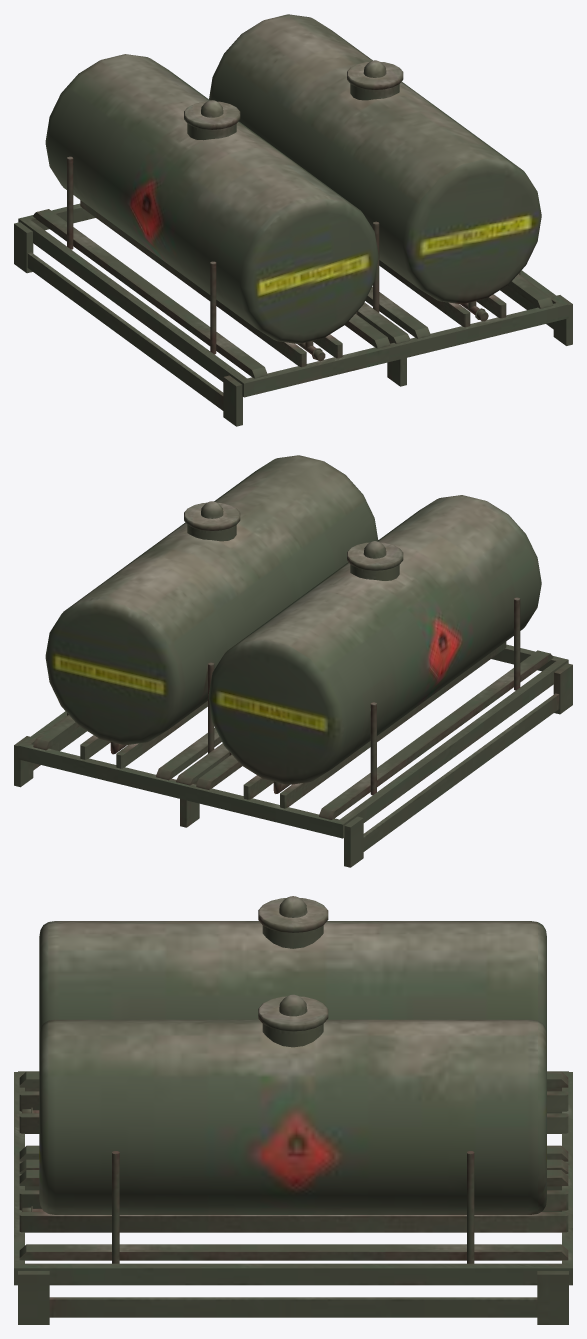
The model's file is fuel.glb.
3 renders of one model, top to bottom at view 1: azimuth 30°, elevation 25°; view 2: azimuth 150°, elevation 25°; view 3: azimuth 270°, elevation 25°, orthographic. The views are drawn at different scales.
Parts seen in each view (by area): view 1: Box001; view 2: Box001; view 3: Box001.
Boxes of the visible parts, x1,y1,x2,y2 form: Box001: (14,14,572,426); Box001: (14,455,572,867); Box001: (14,896,572,1324).
Bounding box in the file's own units: 10.34 × 6.54 × 12.
1 material, 1 textured.
